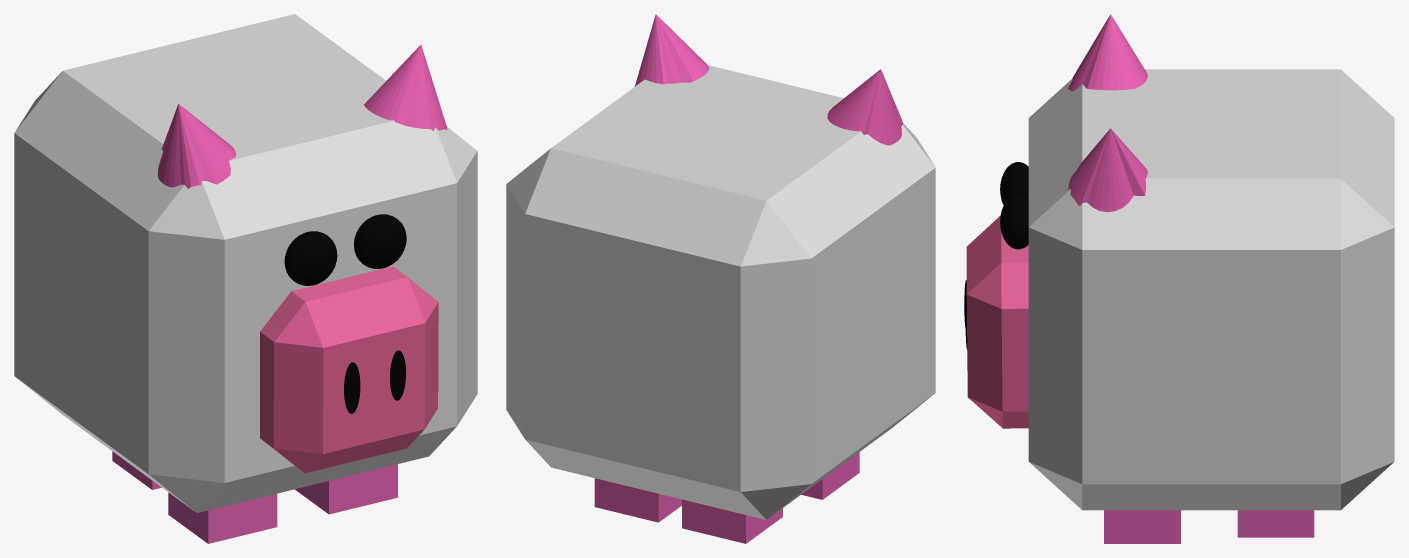
The model's file is Porquinho.fbx.
3 renders of one model, left to right at view 1: azimuth 30°, elevation 25°; view 2: azimuth 150°, elevation 25°; view 3: azimuth 270°, elevation 25°, orthographic. The views are drawn at different scales.
Visible parts, largest first — view 1: Cube.001, Cube, Cone, Cone.001, Cube.002, Cube.003, Sphere, Sphere.001, Sphere.003, Sphere.002; view 2: Cube.001, Cone, Cone.001, Cube.005, Cube.004, Cube.002; view 3: Cube.001, Cube, Cone.001, Cone, Cube.003, Cube.004, Sphere.001, Sphere.
Part boxes in pixels (box(x1,y1,x2,y2)): Cube.001: box(14, 14, 477, 512); Cube: box(260, 266, 438, 473); Cone: box(157, 104, 235, 188); Cone.001: box(364, 44, 447, 130); Cube.002: box(168, 492, 277, 543); Cube.003: box(295, 464, 397, 514); Sphere: box(284, 231, 337, 285); Sphere.001: box(354, 214, 406, 268); Sphere.003: box(344, 362, 360, 413); Sphere.002: box(390, 350, 405, 400); Cube.001: box(506, 65, 935, 519); Cone: box(827, 69, 903, 145); Cone.001: box(634, 14, 709, 86); Cube.005: box(682, 499, 782, 543); Cube.004: box(594, 478, 681, 522); Cube.002: box(801, 452, 859, 499); Cube.001: box(1028, 69, 1394, 510); Cube: box(966, 215, 1028, 428); Cone.001: box(1068, 128, 1147, 212); Cone: box(1068, 14, 1147, 91); Cube.003: box(1104, 510, 1180, 543); Cube.004: box(1237, 510, 1314, 537); Sphere.001: box(1000, 194, 1028, 249); Sphere: box(1000, 162, 1028, 205).
Bounding box in the file's own units: 200 × 258 × 235.
